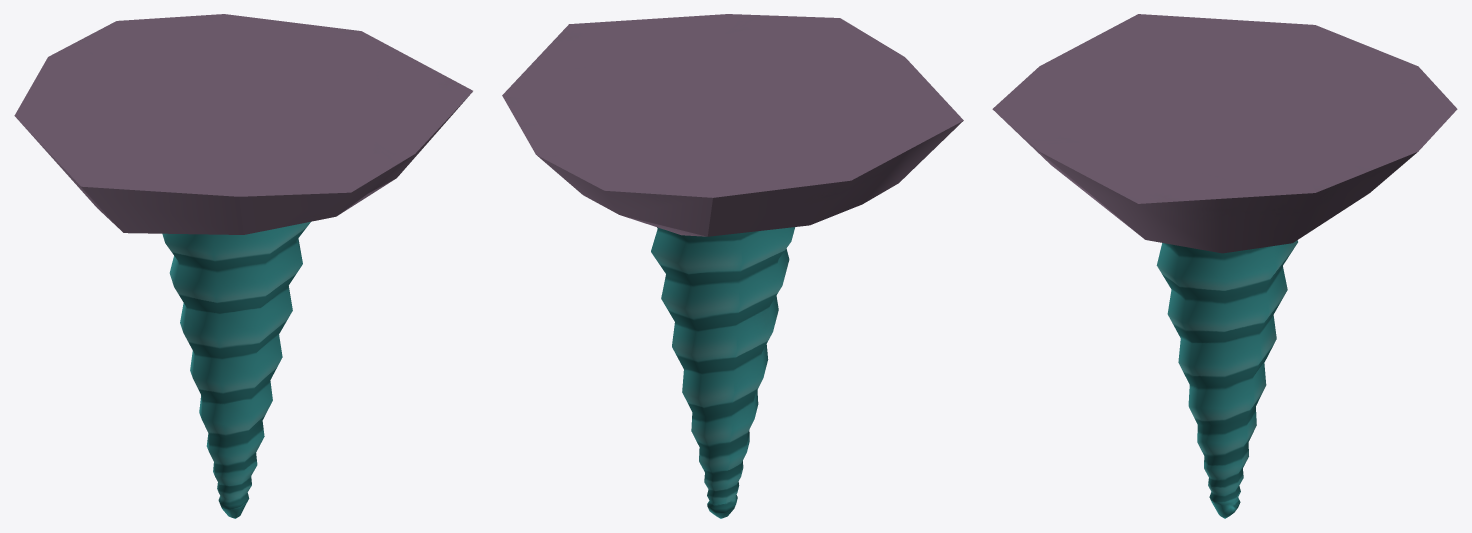
The model's file is m_stalagmite1_je_4.fbx.
3 renders of one model, left to right at view 1: azimuth 30°, elevation 25°; view 2: azimuth 150°, elevation 25°; view 3: azimuth 270°, elevation 25°, orthographic.
Parts seen in each view (by area): view 1: polySurface292; view 2: polySurface292; view 3: polySurface292.
Boxes of the visible parts, <box> form: polySurface292: <box>14,14,472,518</box>; polySurface292: <box>502,14,963,518</box>; polySurface292: <box>992,14,1457,518</box>.
Bounding box in the file's own units: 604 × 607 × 626.
